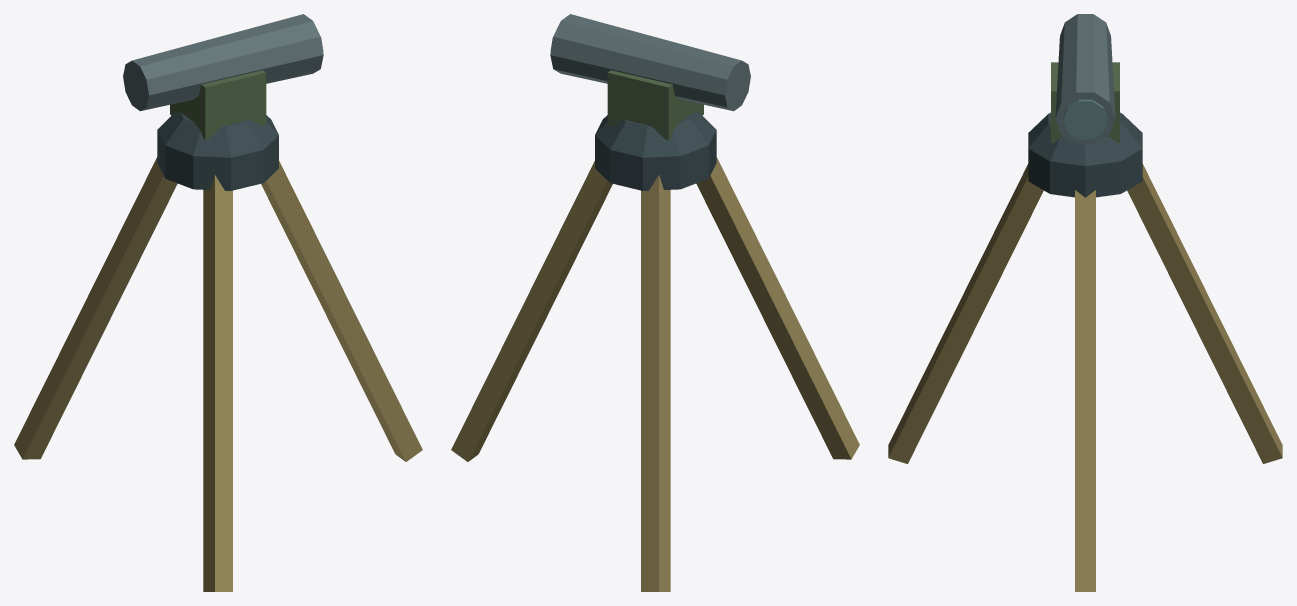
File: Prop_Daily_SurveyTripod_001_LOD1.glb
The picture shows the model from 3 angles, left to right: view 1: azimuth 30°, elevation 25°; view 2: azimuth 150°, elevation 25°; view 3: azimuth 270°, elevation 25°; orthographic projection.
Parts seen in each view (by area): view 1: Prop_Daily_SurveyTripod_001_LOD1; view 2: Prop_Daily_SurveyTripod_001_LOD1; view 3: Prop_Daily_SurveyTripod_001_LOD1.
Boxes of the visible parts, x1,y1,x2,y2 form: Prop_Daily_SurveyTripod_001_LOD1: (14, 14, 422, 591); Prop_Daily_SurveyTripod_001_LOD1: (451, 14, 859, 591); Prop_Daily_SurveyTripod_001_LOD1: (888, 14, 1282, 591).
Bounding box in the file's own units: 1.15 × 1.68 × 1.31.
